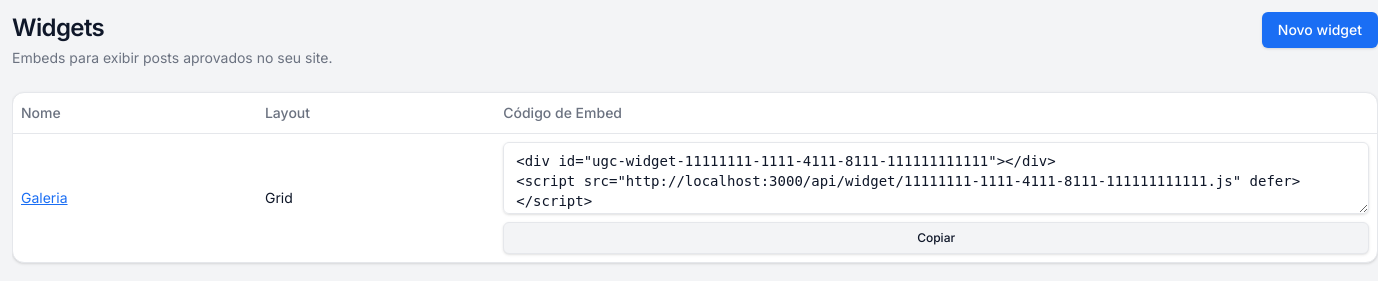
Test: WidgetsList › copies embed code from the row
What coordinates should you click on to do the following:
click the button "Copiar"
I would click on:
 (936, 238)
Its box is [503,222,1369,254].
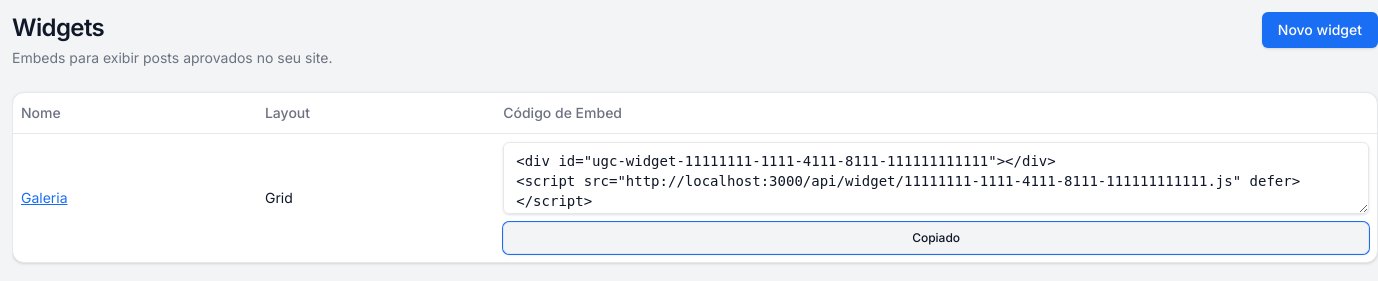
Now the button "Copiado" is shown, box [503,222,1369,254]
